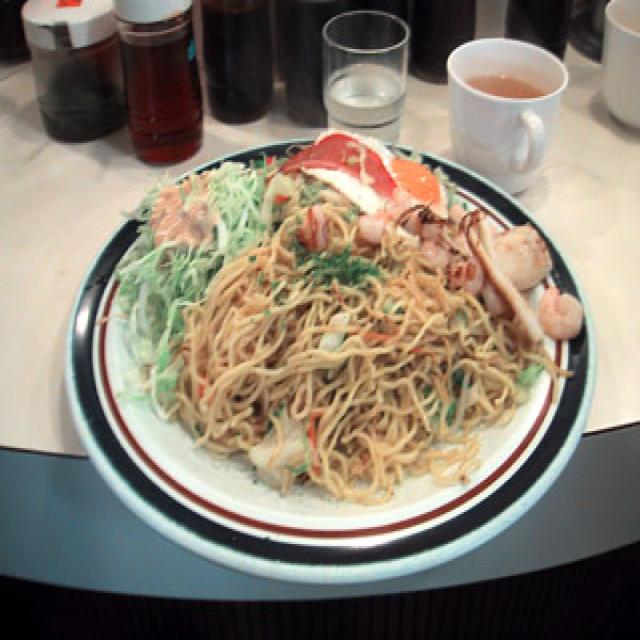面条主食: (168, 205, 547, 493)
